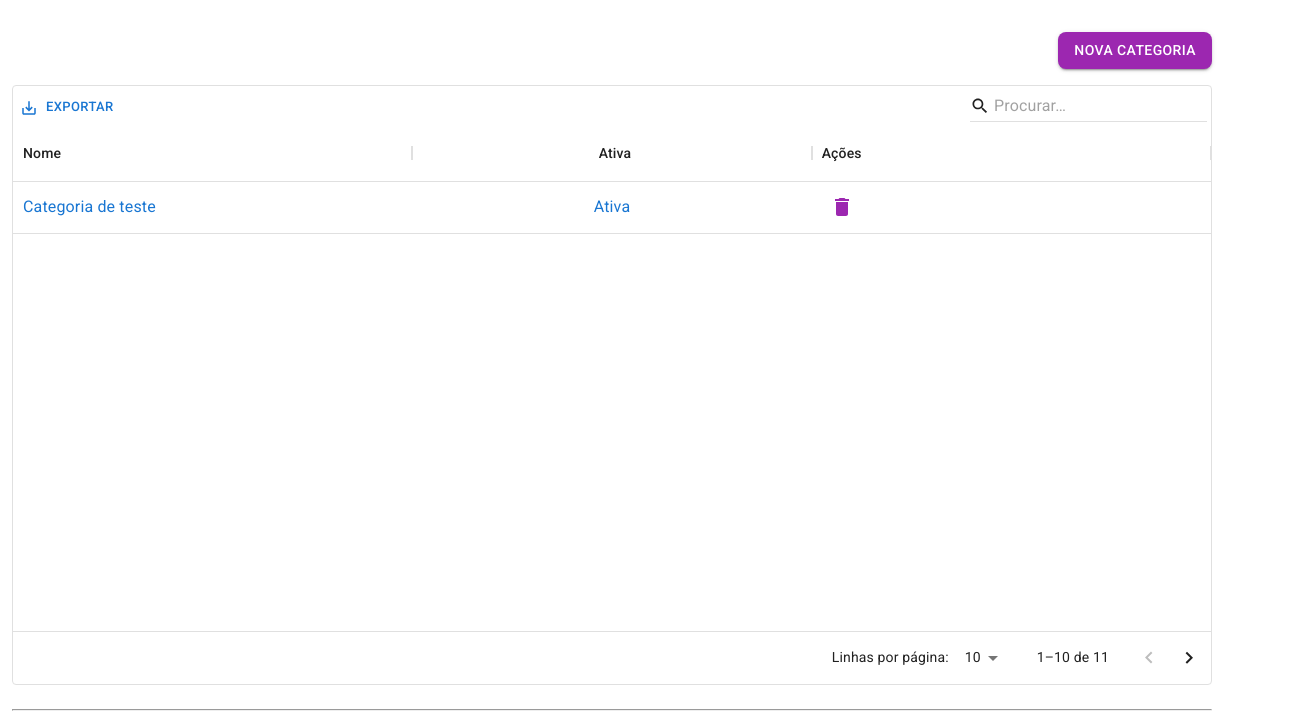
Listagem de categorias › deve informar quando a exclusão for concluída
Expected: the text "Categoria de teste" is shown, top-left (23, 195), bottom-right (156, 219)
Click the button named "Excluir categoria" at (842, 207), box top-left (822, 187), bottom-right (862, 227)
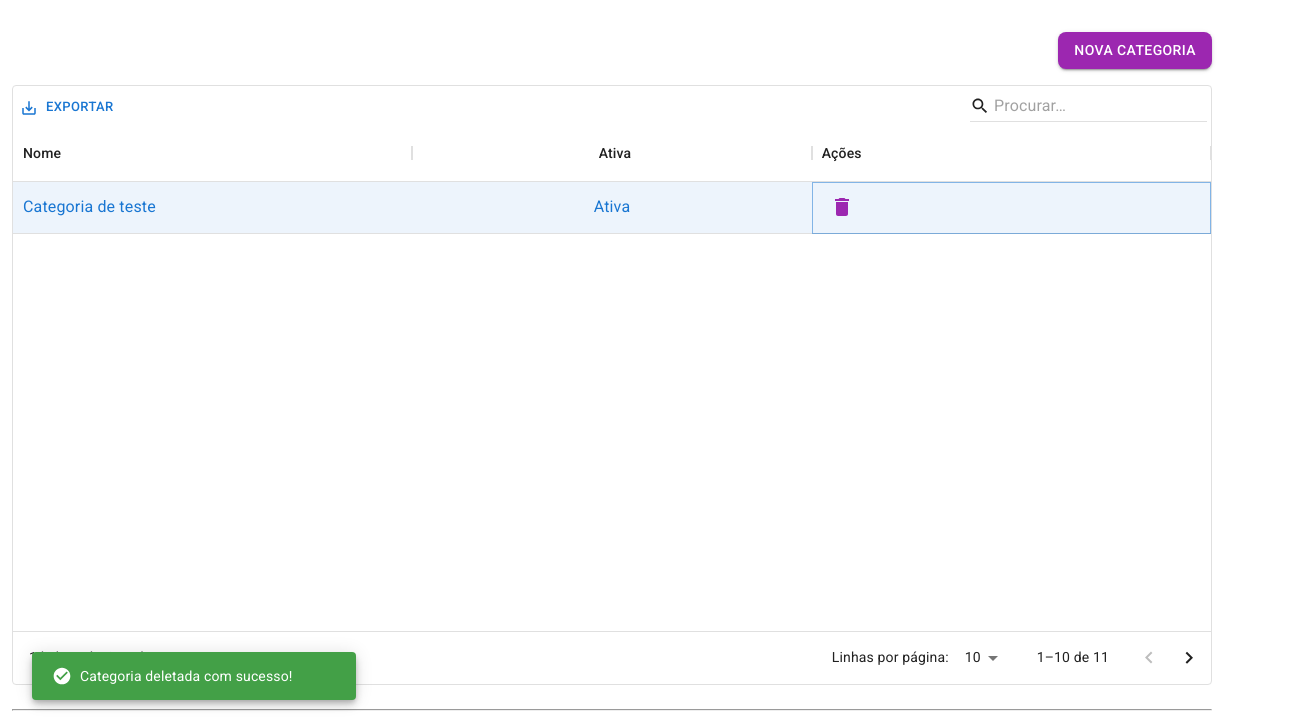
Expected: the text "Categoria deletada com sucesso!" is shown, top-left (52, 666), bottom-right (293, 686)
